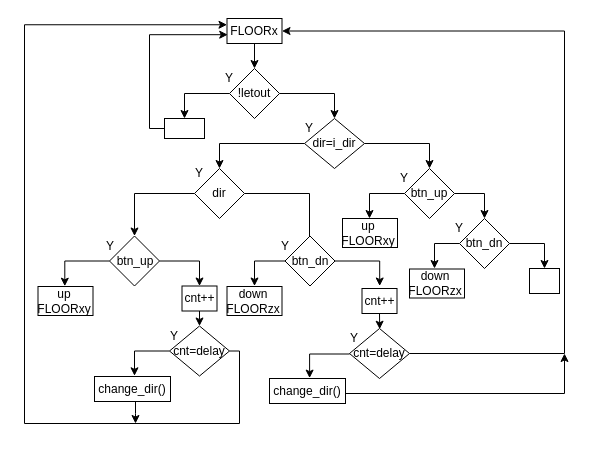
The diagram is 590 pixels wide and 449 high, and some of its shapes have lost their labels. Here are the shapes that lost their labels. From the top down, the centre of each, then its label:
At pixel 184 128: "open()".
At pixel 544 281: "idle".
